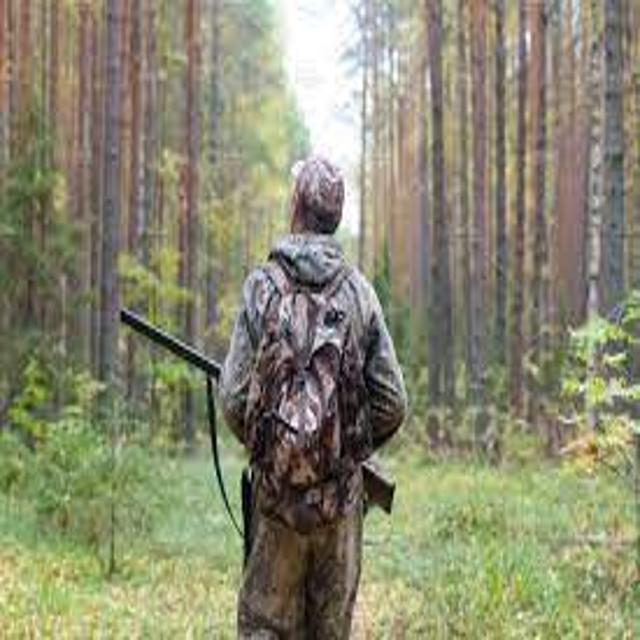backpack: (198, 243, 421, 552)
gun: (100, 280, 434, 538)
poacher: (176, 139, 428, 640)
